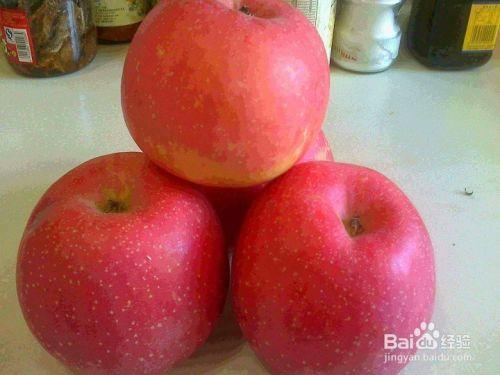apple: (12, 154, 227, 369), (224, 159, 435, 371), (117, 2, 332, 193)
